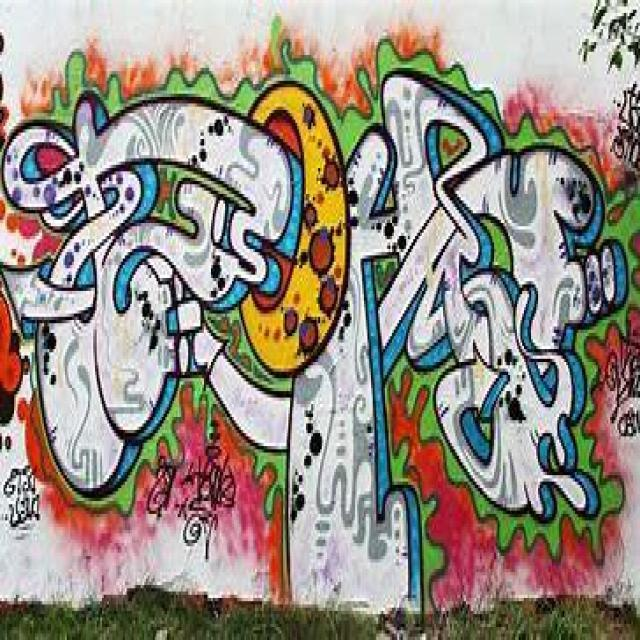nonspitting: (0, 32, 640, 610), (146, 440, 235, 560), (599, 339, 640, 442), (606, 71, 640, 168), (1, 459, 40, 533)
